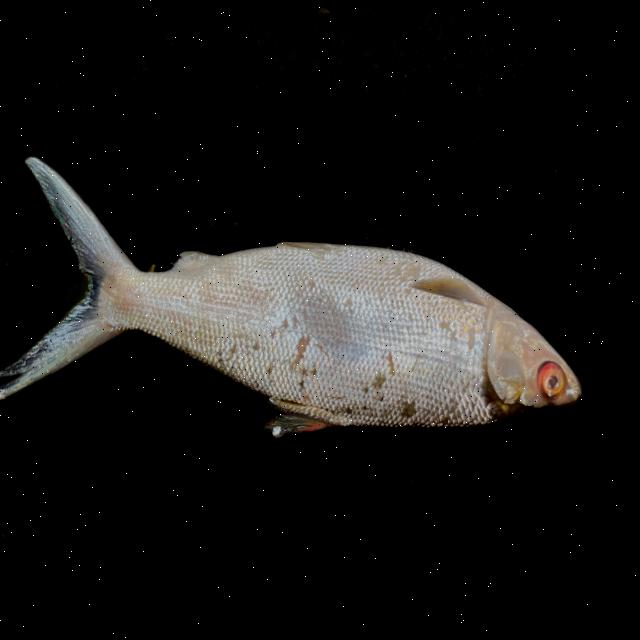795 g: (0, 155, 606, 511)
